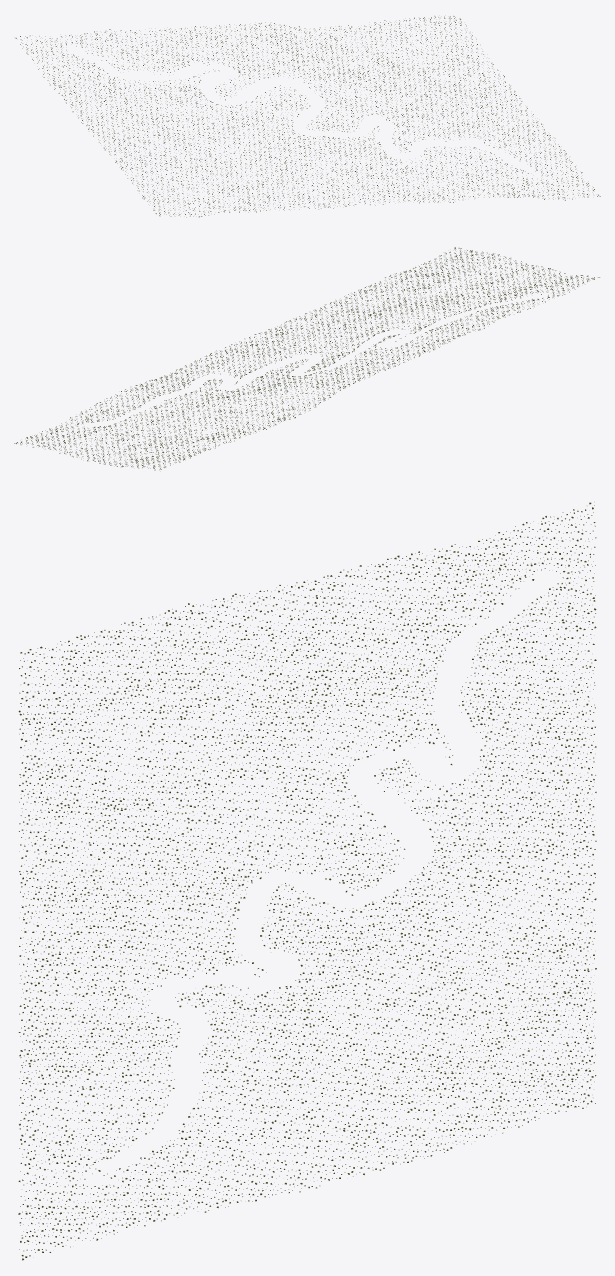
Rendered from s97-understory-batched.glb.
3 views of the same model, one above another, from view 1: azimuth 30°, elevation 25°; view 2: azimuth 210°, elevation 25°; view 3: azimuth 270°, elevation 25° (orthographic). The views are drawn at different scales.
Visible parts, largest first — view 1: s97-understory-batched; view 2: s97-understory-batched; view 3: s97-understory-batched.
Part boxes in pixels (x1,y1,x2,y2): s97-understory-batched: (15, 16, 600, 217); s97-understory-batched: (14, 247, 599, 470); s97-understory-batched: (18, 502, 596, 1260).
Size of the model in its own units: 15.95 by 5.62 by 9.01.
2 materials, 2 textured.
